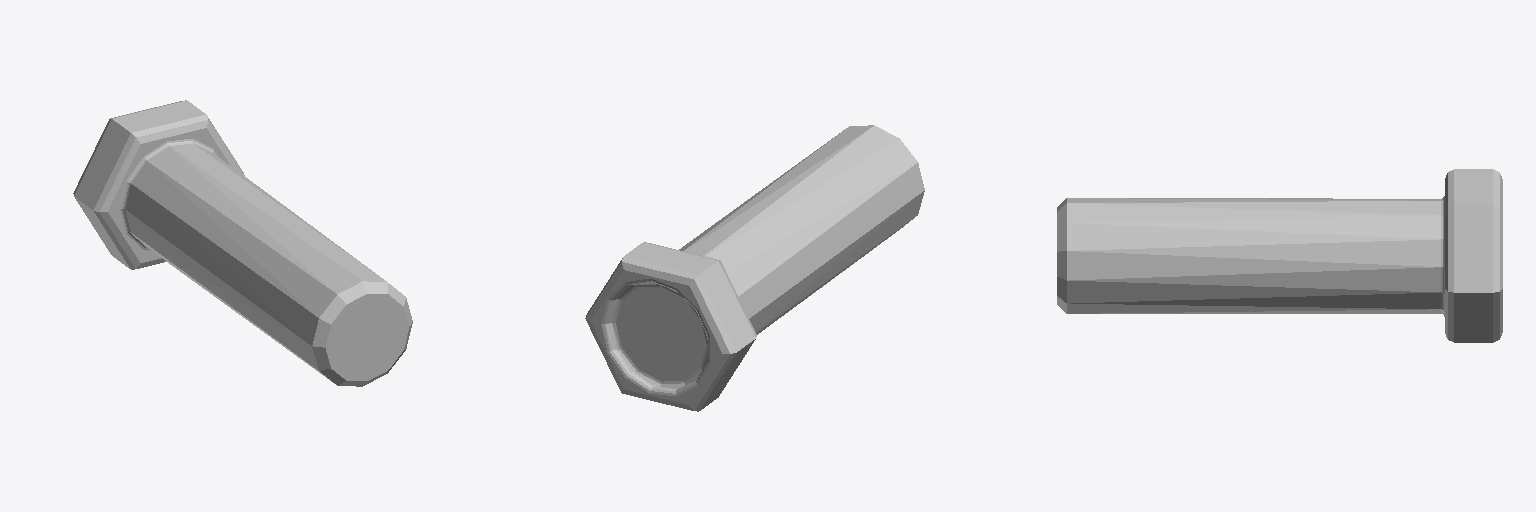
Rendered from Болт крепления трубы подводящей.obj.
3 views of the same model, side by side, from view 1: azimuth 30°, elevation 25°; view 2: azimuth 150°, elevation 25°; view 3: azimuth 270°, elevation 25° (orthographic).
Parts seen in each view (by area): view 1: Болт_крепления_трубы_подводящей; view 2: Болт_крепления_трубы_подводящей; view 3: Болт_крепления_трубы_подводящей.
Boxes of the visible parts, x1=… form: Болт_крепления_трубы_подводящей: x1=73, y1=100, x2=412, y2=386; Болт_крепления_трубы_подводящей: x1=585, y1=125, x2=924, y2=411; Болт_крепления_трубы_подводящей: x1=1057, y1=169, x2=1502, y2=342.
Size of the model in its own units: 9 by 7.79 by 23.